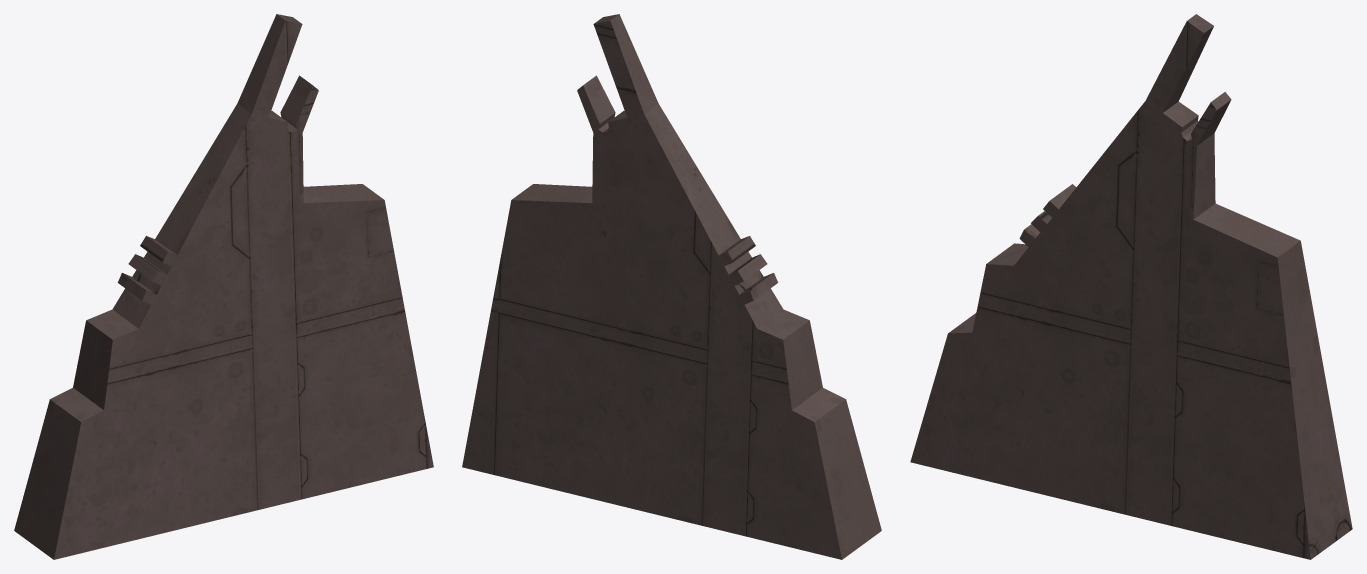
Rendered from Vista13.fbx.
The picture shows the model from 3 angles, left to right: view 1: azimuth 30°, elevation 25°; view 2: azimuth 150°, elevation 25°; view 3: azimuth 330°, elevation 25°; orthographic projection. The views are drawn at different scales.
Visible parts, largest first — view 1: SM_ENV_STRUCT_ScrapYard_Vista_13.mo; view 2: SM_ENV_STRUCT_ScrapYard_Vista_13.mo; view 3: SM_ENV_STRUCT_ScrapYard_Vista_13.mo.
Boxes of the visible parts, box(x1,y1,x2,y2) form: SM_ENV_STRUCT_ScrapYard_Vista_13.mo: box(14, 14, 433, 559); SM_ENV_STRUCT_ScrapYard_Vista_13.mo: box(462, 14, 881, 559); SM_ENV_STRUCT_ScrapYard_Vista_13.mo: box(910, 14, 1352, 559).
Bounding box in the file's own units: 1360 × 1600 × 247.
Materials: 1 (1 with a texture image).
